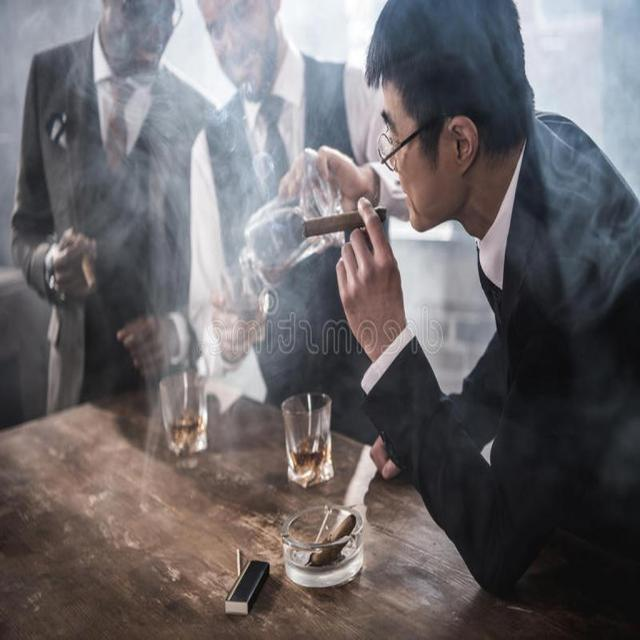smoking: (247, 150, 418, 290)
